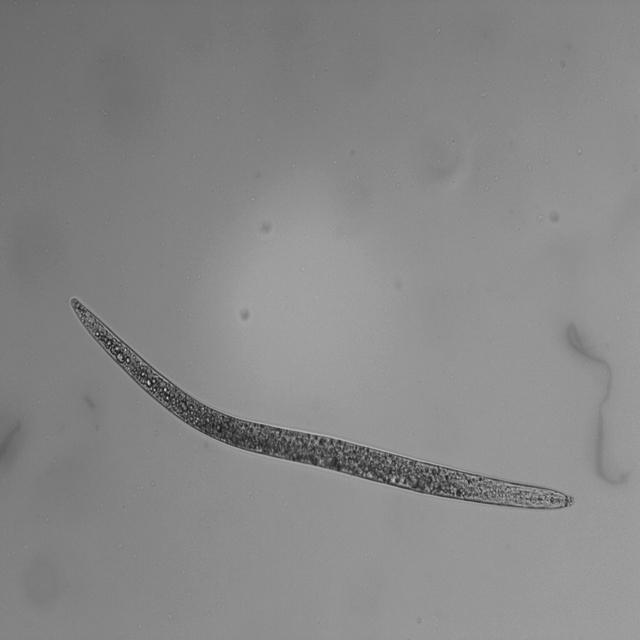Pratylenchus: (66, 292, 583, 517)
